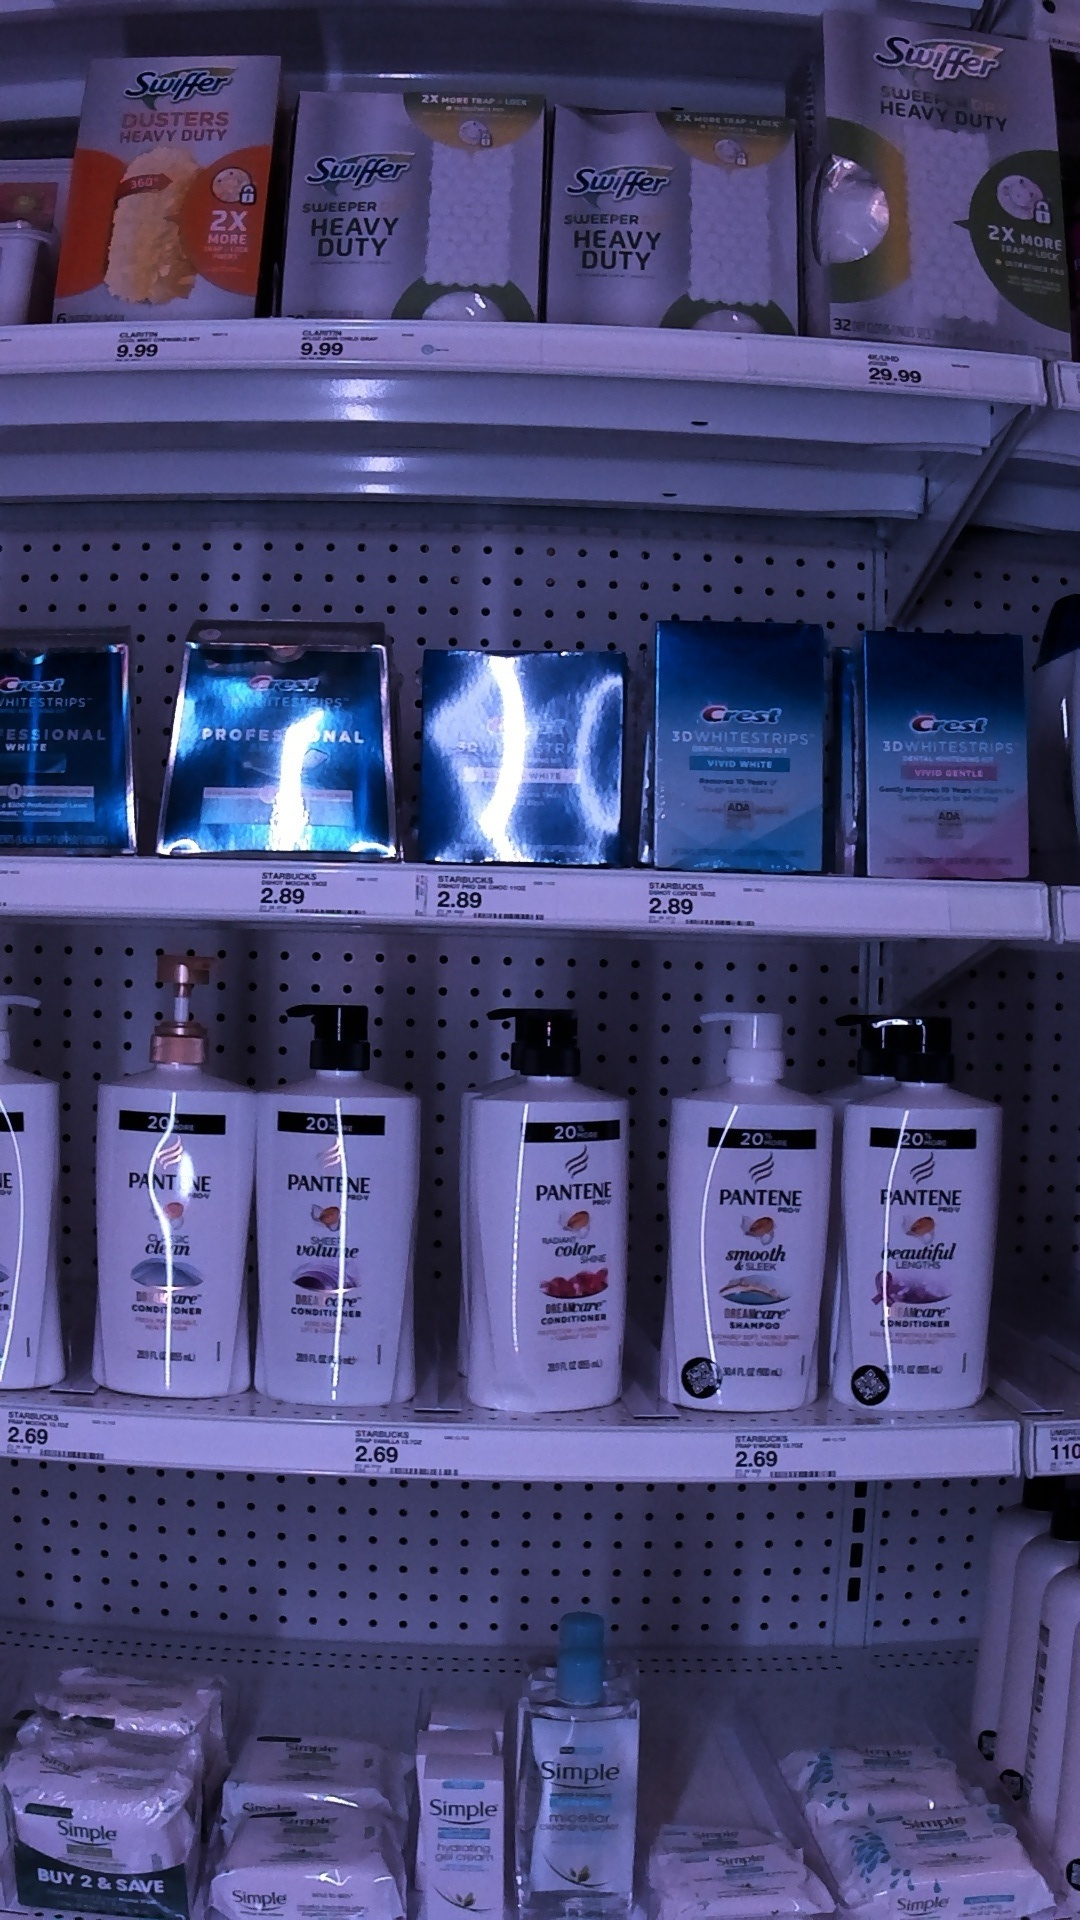ptag: (406, 860, 553, 928), (727, 1425, 878, 1484), (644, 864, 766, 935), (355, 1415, 469, 1489), (255, 853, 367, 920), (7, 1408, 123, 1472), (295, 315, 402, 375), (104, 322, 220, 373), (855, 338, 951, 400)
